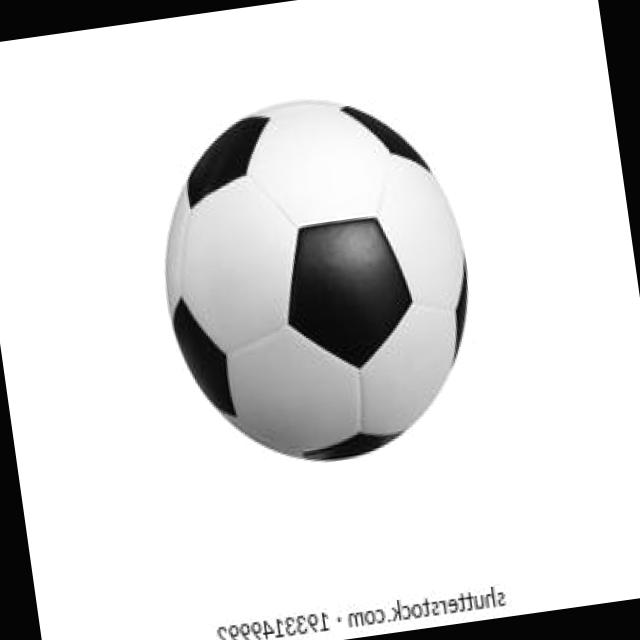Soccer Ball: (142, 79, 496, 486)
